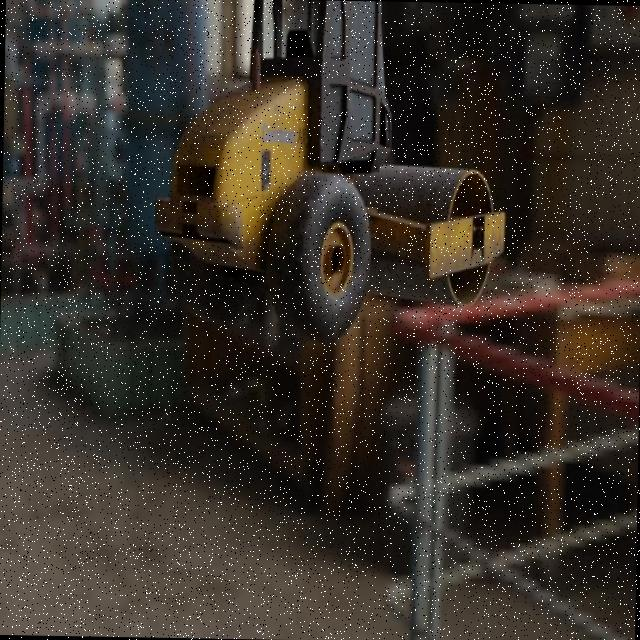Roller: (150, 0, 507, 346)
